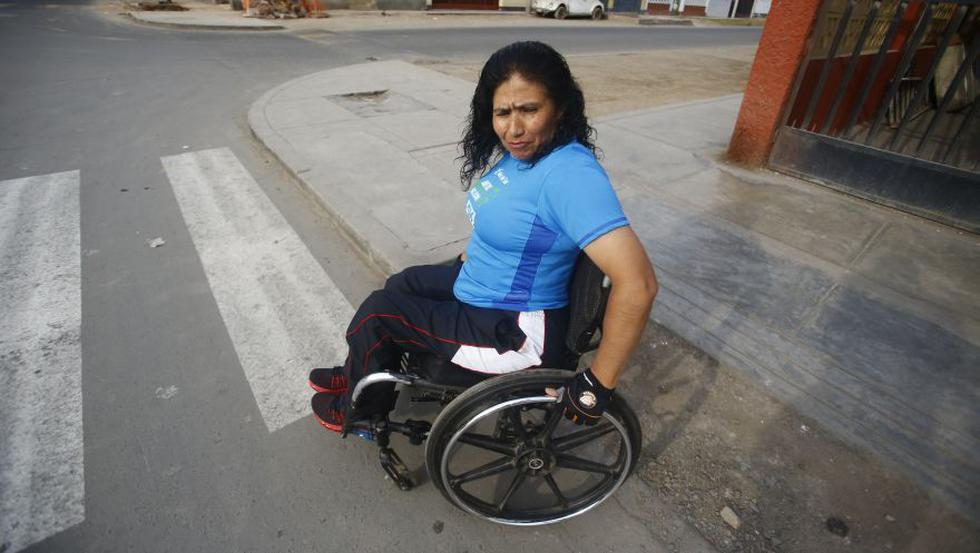wheelchair: (308, 41, 660, 527)
